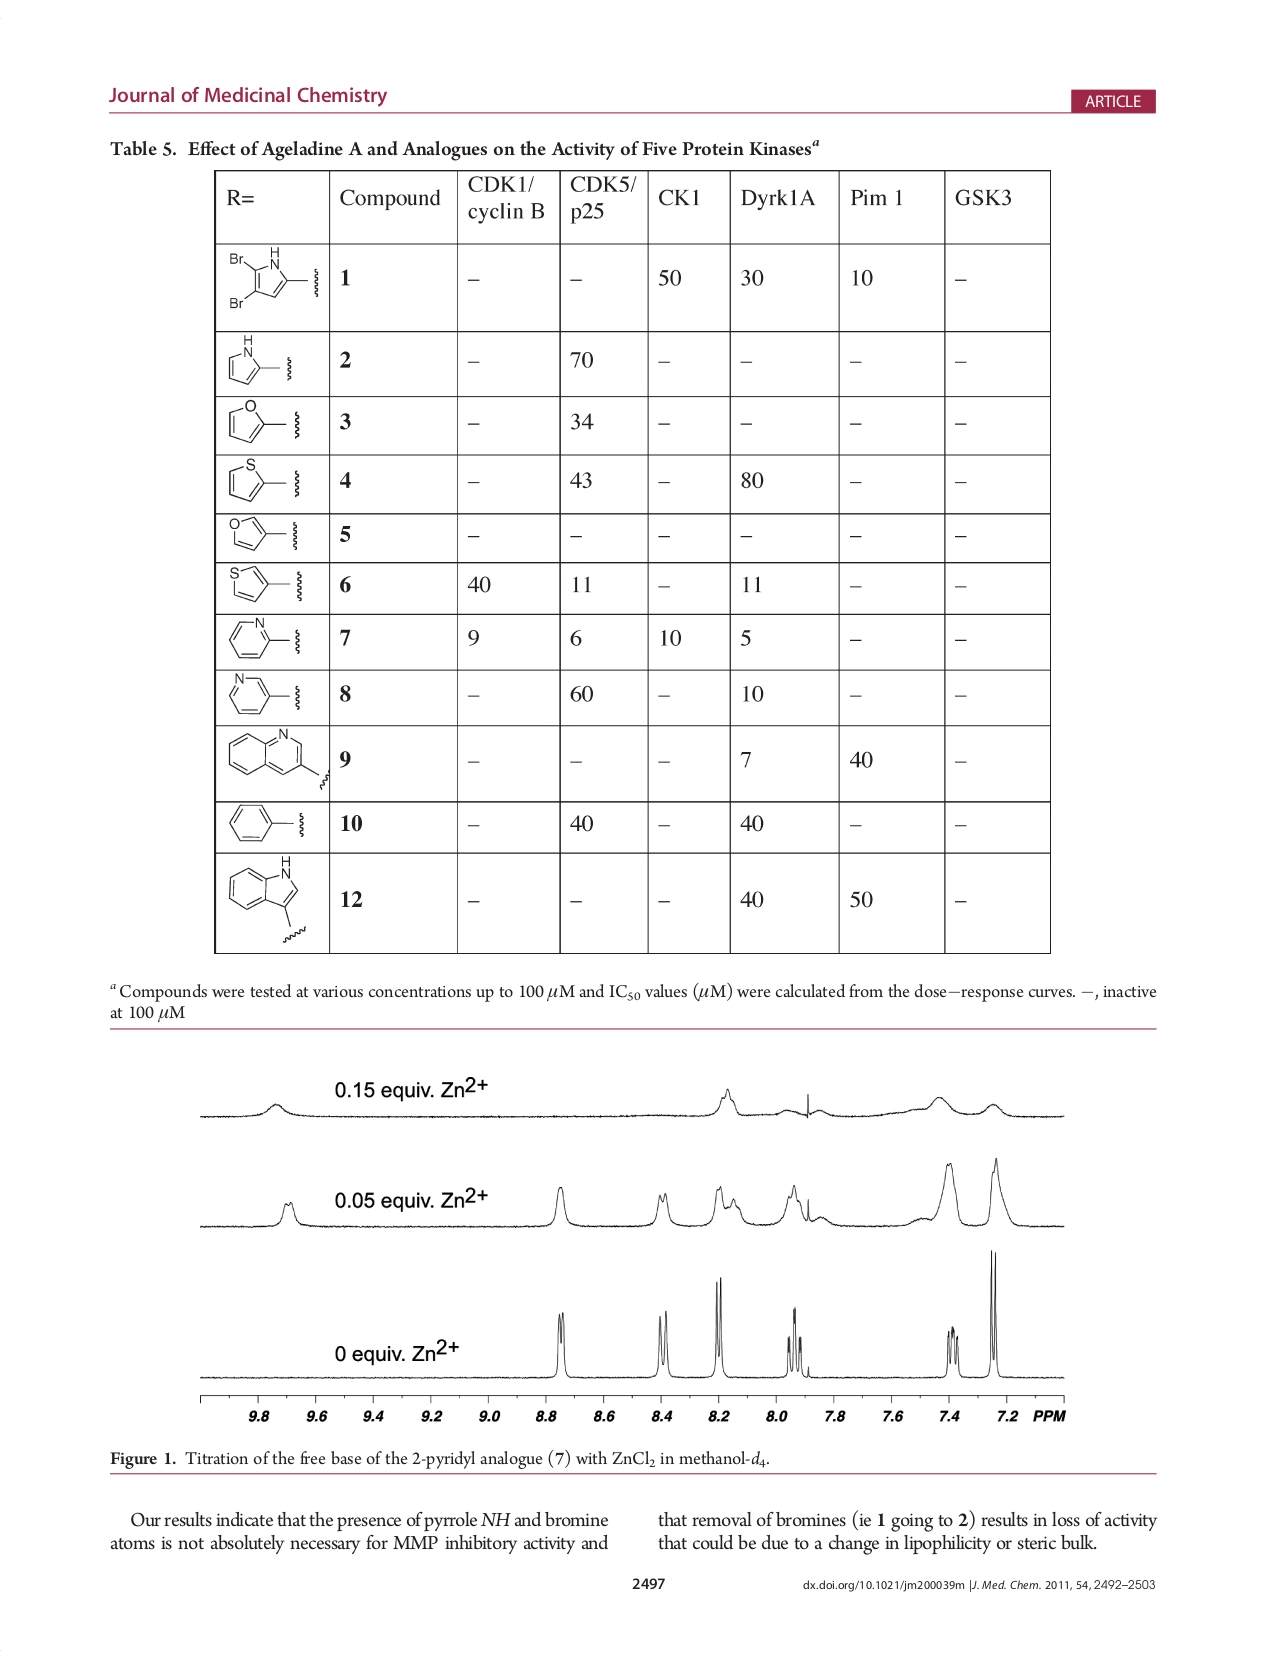exist_molecular: (226, 854, 309, 946), (225, 726, 330, 793), (223, 246, 322, 314), (223, 332, 293, 388), (226, 398, 305, 446), (225, 672, 305, 718), (226, 456, 303, 504), (227, 563, 309, 606), (227, 803, 307, 846), (227, 617, 305, 661), (227, 516, 301, 552)
